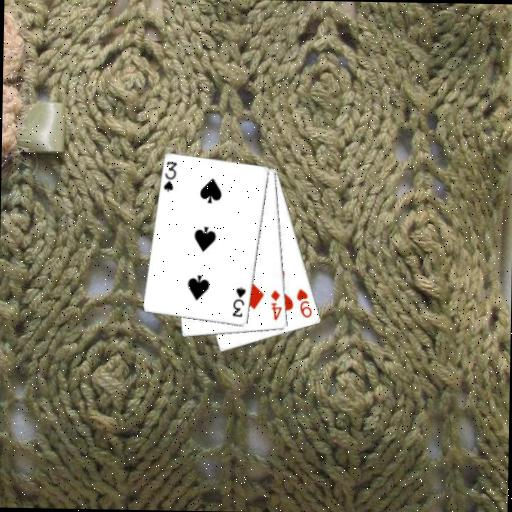3S: (229, 284, 248, 319), (160, 159, 179, 194)
4D: (268, 288, 284, 322)
9H: (293, 286, 314, 320)
